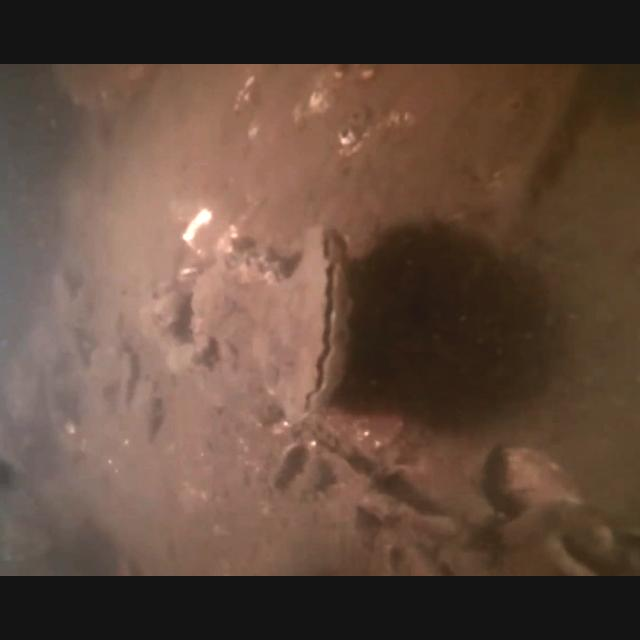Oyster-Open: (254, 225, 356, 428), (191, 250, 287, 394)
